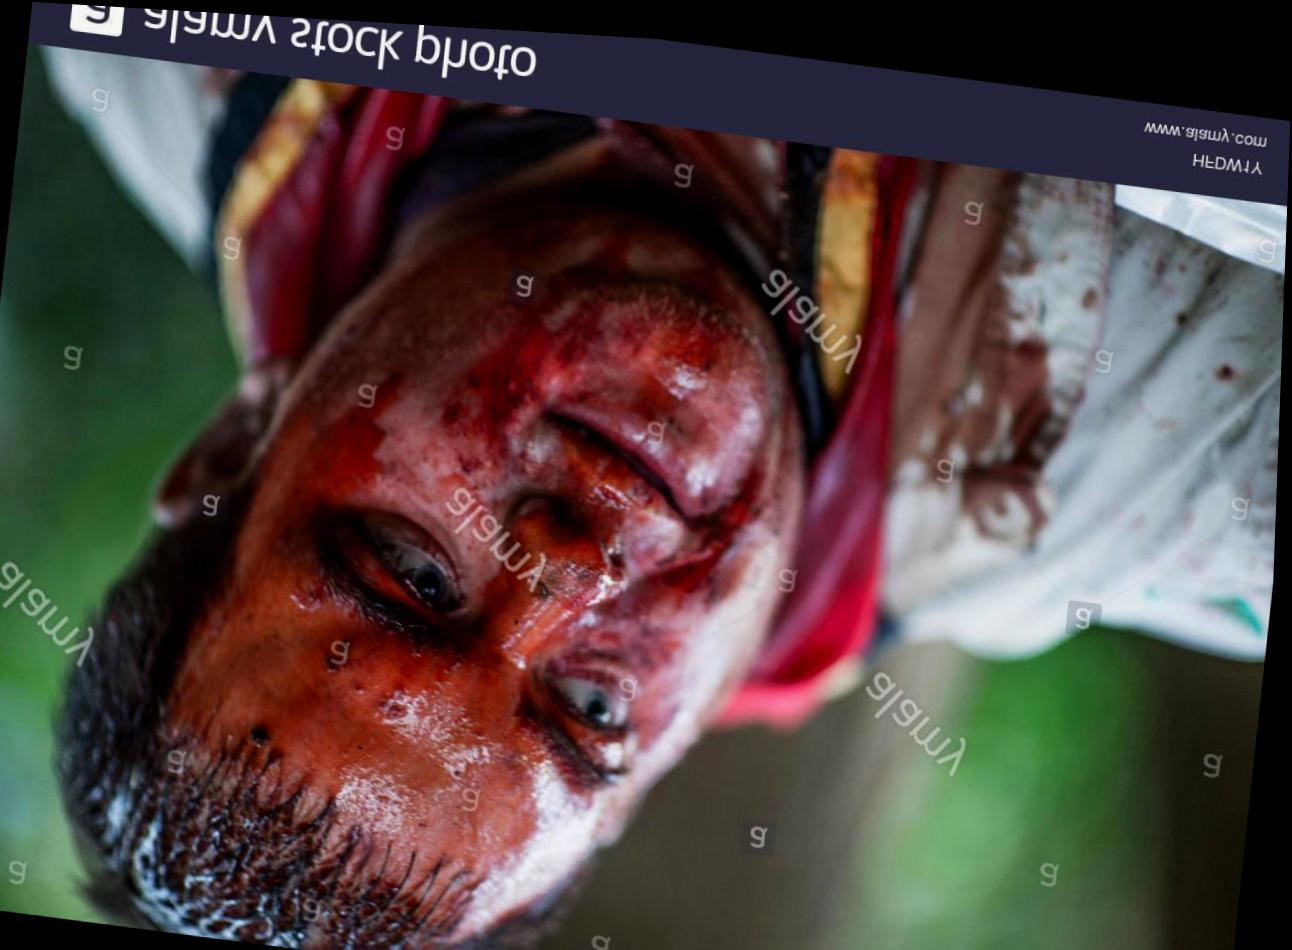Fire: (108, 187, 809, 950), (898, 152, 1070, 535)
